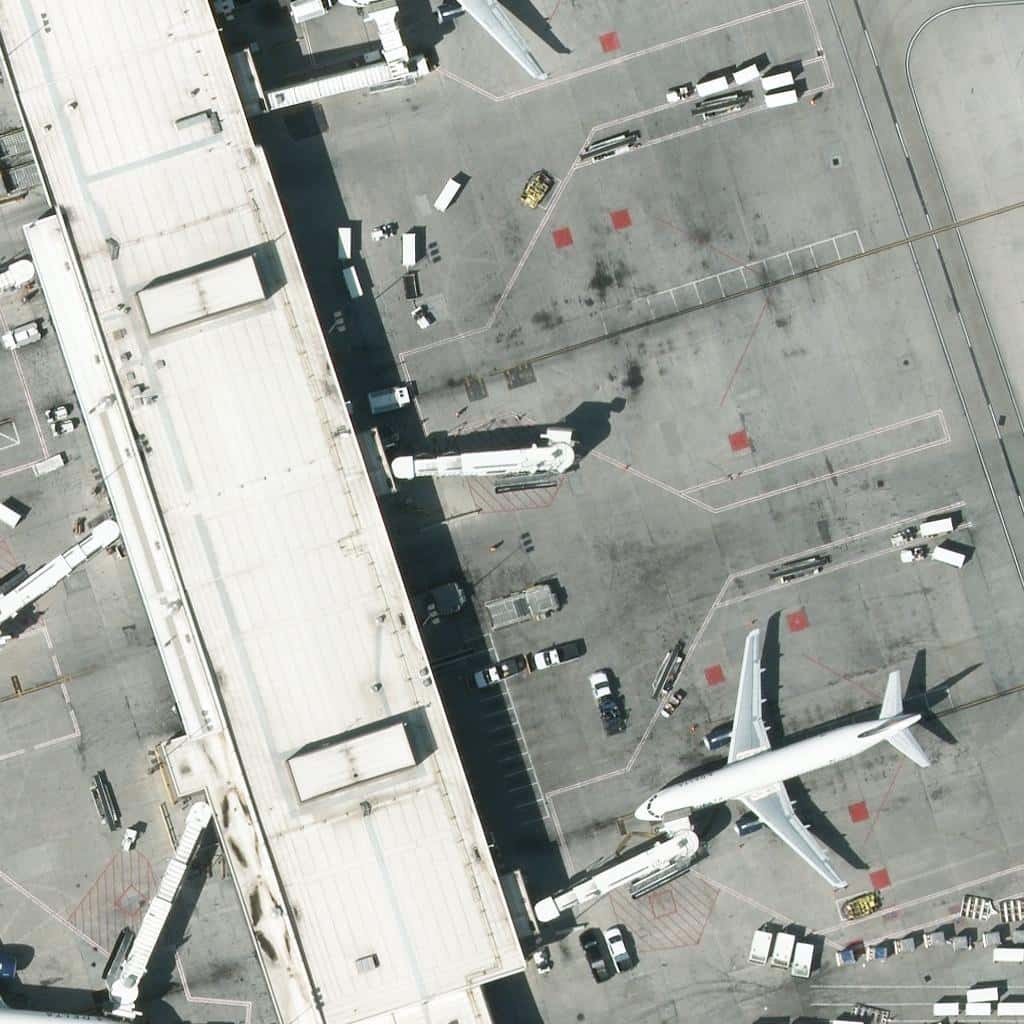plane: (635, 629, 936, 889)
